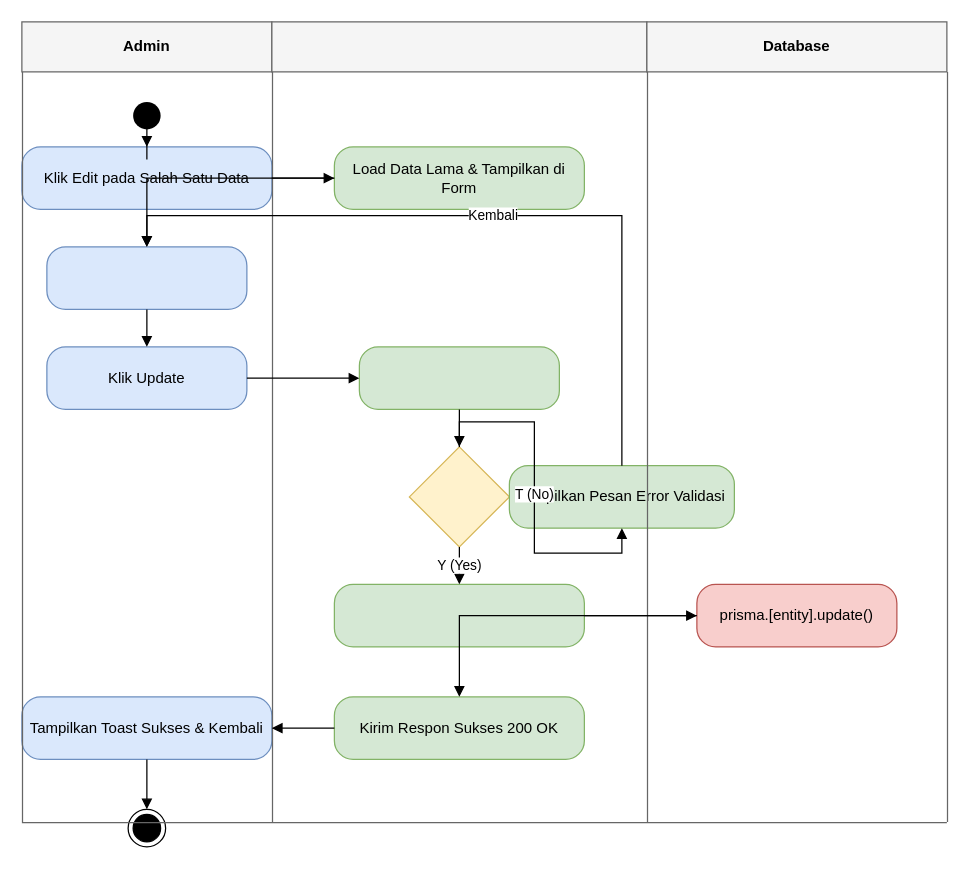
Image size: 970x869. Some labels were removed from this diagram. The box of each missing label's shape, as (x1, y1, x2, y2) in pixels:
Mulai DB Transaction & Update Data: (333, 583, 584, 647)
Sistem (Backend): (271, 21, 647, 72)
Ubah Field Input Data: (46, 246, 247, 309)
Valid?: (408, 446, 509, 547)
Validasi Form Edit (Zod Schema): (358, 346, 559, 409)
